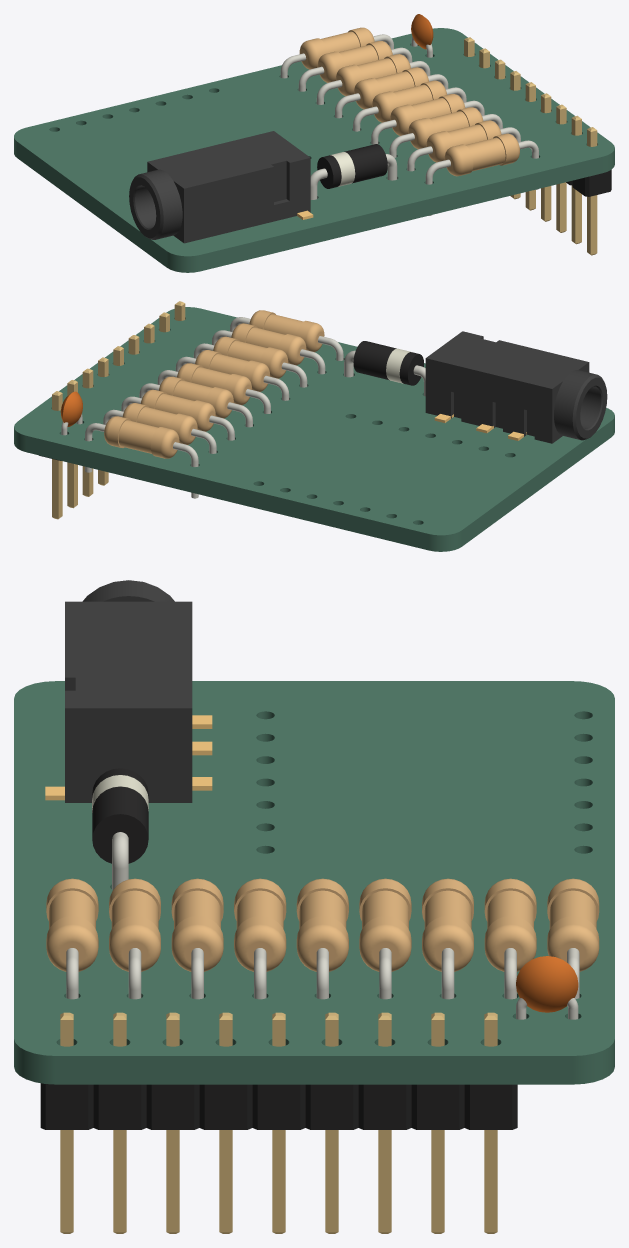
File: C5VRX_JACK_DIY_V3.glb
3 views of the same model, one above another, from view 1: azimuth 30°, elevation 25°; view 2: azimuth 150°, elevation 25°; view 3: azimuth 270°, elevation 25° (orthographic). The views are drawn at different scales.
Parts seen in each view (by area): view 1: =>[0:1:1:13], =>[0:1:1:3] (×9), NAUO1, =>[0:1:1:10], =>[0:1:1:12], =>[0:1:1:8]; view 2: =>[0:1:1:13], =>[0:1:1:3] (×9), NAUO1, =>[0:1:1:10], =>[0:1:1:12], =>[0:1:1:8]; view 3: =>[0:1:1:13], =>[0:1:1:3] (×9), =>[0:1:1:10], NAUO1, =>[0:1:1:12], =>[0:1:1:8].
Boxes of the visible parts, x1,y1,x2,y2 form: =>[0:1:1:13]: (14,28,614,272); =>[0:1:1:3] (×9): (280,27,538,215); NAUO1: (129,131,313,243); =>[0:1:1:10]: (464,37,611,255); =>[0:1:1:12]: (310,144,397,199); =>[0:1:1:8]: (411,14,433,57); =>[0:1:1:13]: (14,307,614,551); =>[0:1:1:3] (×9): (85,310,343,498); NAUO1: (425,331,607,443); =>[0:1:1:10]: (39,301,185,519); =>[0:1:1:12]: (344,341,425,396); =>[0:1:1:8]: (60,391,82,435); =>[0:1:1:13]: (14,681,614,1084); =>[0:1:1:3] (×9): (46,878,599,999); =>[0:1:1:10]: (40,1012,517,1233); NAUO1: (45,580,212,802); =>[0:1:1:12]: (92,768,148,889); =>[0:1:1:8]: (516,956,578,1019).
Bounding box in the file's own units: 0.0426 × 0.0154 × 0.0288.
